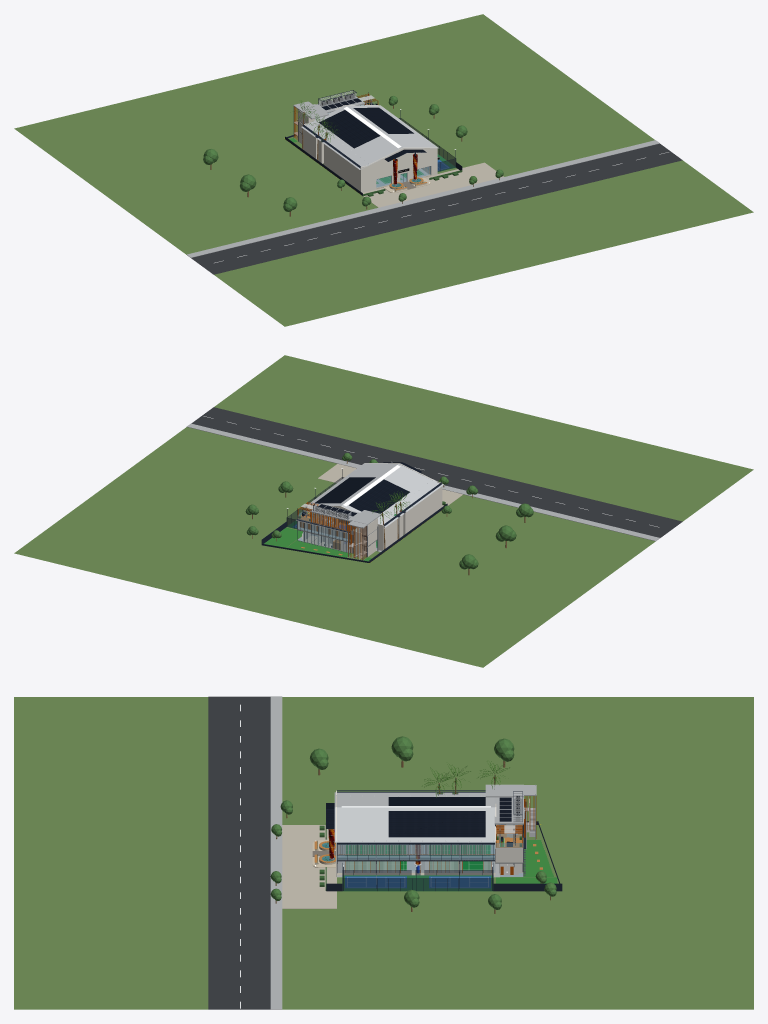
Rendered from MyPlace_Master_vR50.dae.
3 views of the same model, one above another, from view 1: azimuth 30°, elevation 25°; view 2: azimuth 150°, elevation 25°; view 3: azimuth 270°, elevation 25° (orthographic). The views are drawn at different scales.
Visible parts, largest first — view 1: site__grass, site__asphalt, hall_shell__plaster, hall_roof__roofSheet, site__concrete, hall_roof__solar, site__paving, trees__treeCrown; view 2: site__grass, site__asphalt, hall_roof__roofSheet, site__concrete, hall_roof__solar, hall_shell__plaster, trees__treeCrown, outdoor__turf, fences__charcoal, site__paving, rear_roof__concrete; view 3: site__grass, site__asphalt, hall_roof__roofSheet, site__paving, site__concrete, hall_roof__solar, outdoor__mat_1f2937, hall_shell__glass, trees__treeCrown, hall_interior__court, outdoor__pickleTex, hall_shell__glassFrost (+11 smaller).
Part boxes in pixels (left/top/right/bottom): site__grass: left=14, top=14, right=753, bottom=326; site__asphalt: left=191, top=143, right=682, bottom=274; hall_shell__plaster: left=302, top=105, right=437, bottom=192; hall_roof__roofSheet: left=301, top=105, right=438, bottom=169; site__concrete: left=187, top=140, right=659, bottom=257; hall_roof__solar: left=319, top=107, right=413, bottom=148; site__paving: left=362, top=162, right=503, bottom=207; trees__treeCrown: left=203, top=96, right=503, bottom=211; site__grass: left=14, top=355, right=753, bottom=667; site__asphalt: left=191, top=407, right=682, bottom=537; hall_roof__roofSheet: left=308, top=463, right=443, bottom=527; site__concrete: left=186, top=423, right=659, bottom=551; hall_roof__solar: left=314, top=477, right=409, bottom=513; hall_shell__plaster: left=308, top=463, right=442, bottom=550; trees__treeCrown: left=245, top=452, right=533, bottom=569; outdoor__turf: left=264, top=527, right=371, bottom=561; fences__charcoal: left=261, top=503, right=447, bottom=562; site__paving: left=318, top=464, right=462, bottom=506; rear_roof__concrete: left=311, top=503, right=381, bottom=528; site__grass: left=14, top=697, right=753, bottom=1009; site__asphalt: left=208, top=696, right=270, bottom=1009; hall_roof__roofSheet: left=334, top=792, right=495, bottom=842; site__paving: left=282, top=825, right=495, bottom=908; site__concrete: left=270, top=696, right=499, bottom=1009; hall_roof__solar: left=388, top=797, right=485, bottom=837; outdoor__mat_1f2937: left=342, top=870, right=493, bottom=890; hall_shell__glass: left=337, top=844, right=494, bottom=859; trees__treeCrown: left=270, top=736, right=556, bottom=909; hall_interior__court: left=345, top=845, right=490, bottom=870; outdoor__pickleTex: left=345, top=876, right=490, bottom=888; hall_shell__glassFrost: left=337, top=861, right=495, bottom=872.
Size of the model in its own units: 160 by 160 by 16.22.
72 materials, 6 textured.
